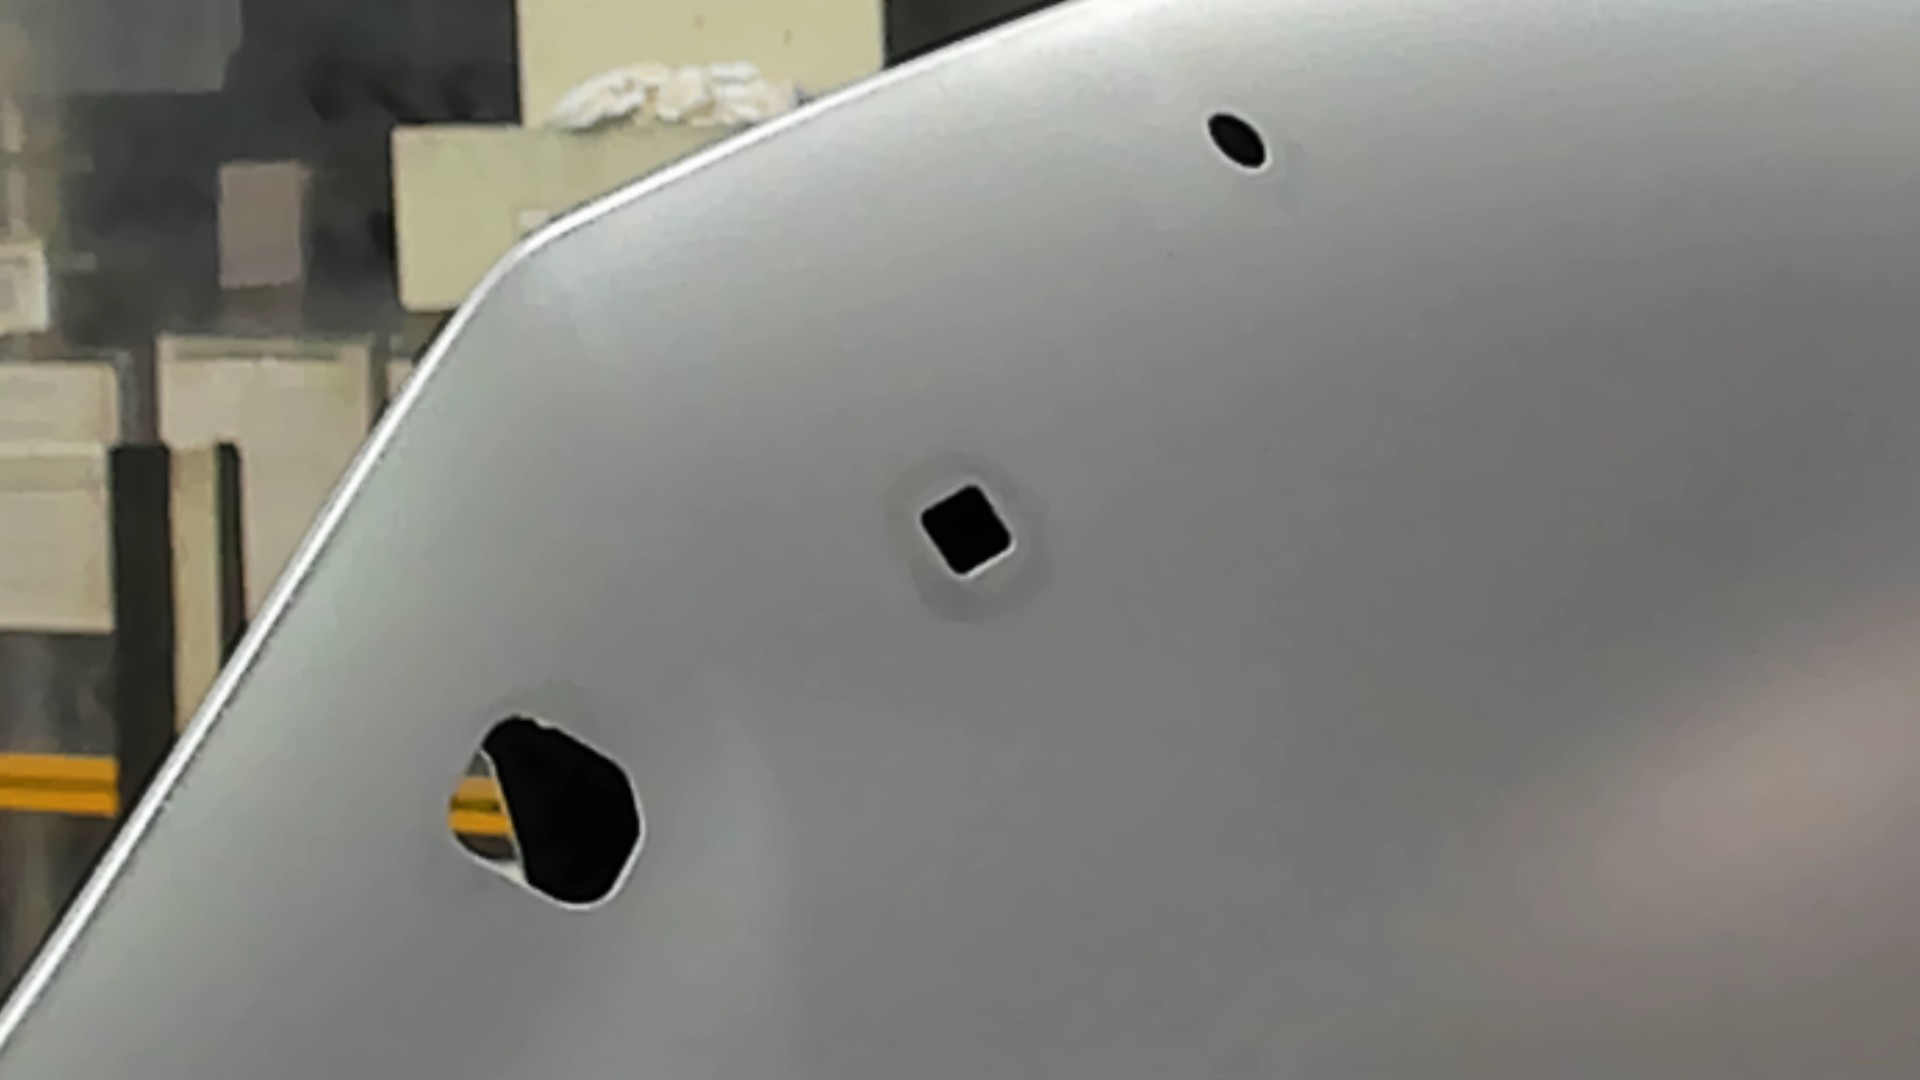capo: (1025, 178, 1920, 1080)
chico: (1204, 105, 1275, 177)
grande: (440, 713, 651, 913)
mediano: (910, 475, 1025, 584)
